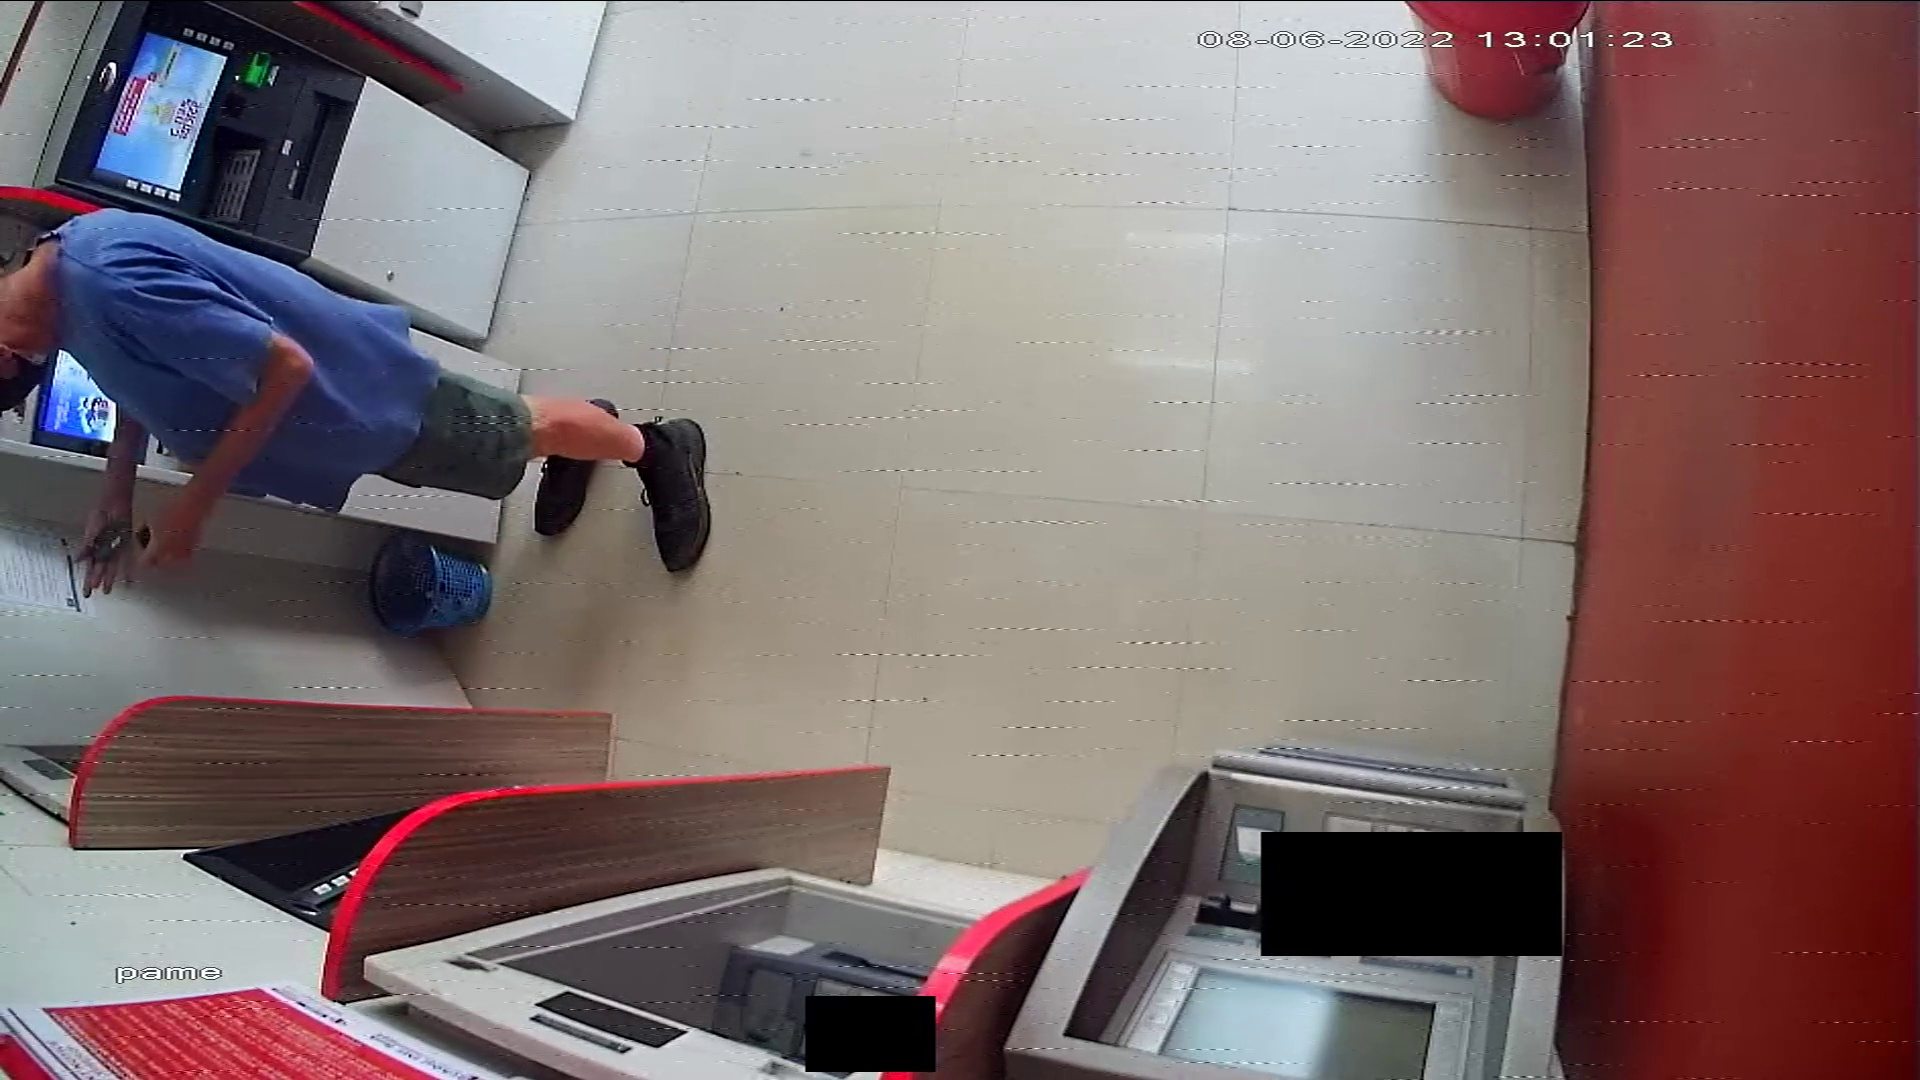person: (1, 201, 718, 586)
